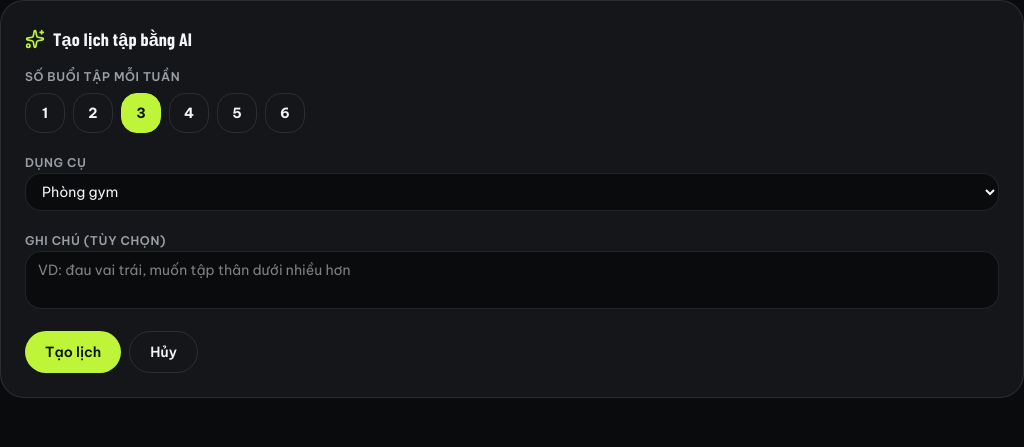
Scenario: AiRoutineForm › shows the server error
What coordinates should you click on to do the following:
click the button "Tạo lịch"
I would click on:
 (73, 352)
Its box is [25,331,121,373].
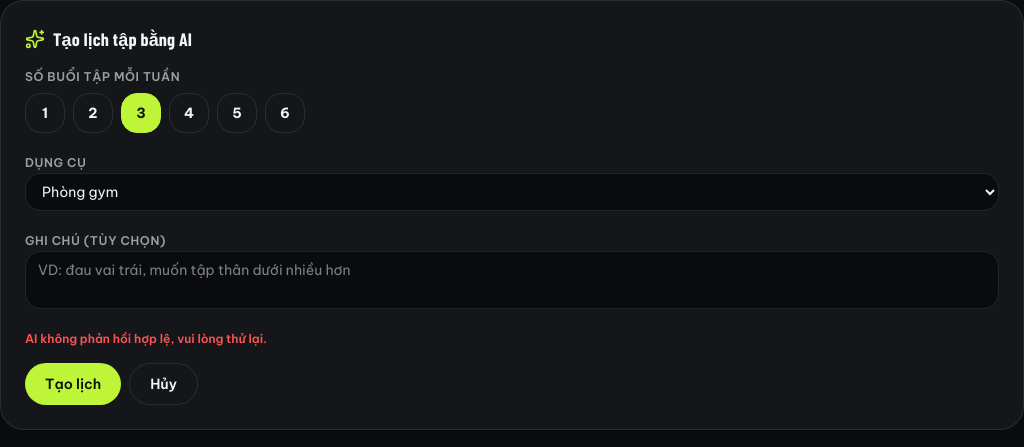
Check: the button "Tạo lịch" is enabled, box [25,363,121,405]
Check: the message shows "AI không phản hồi hợp lệ", box [25,331,267,346]
